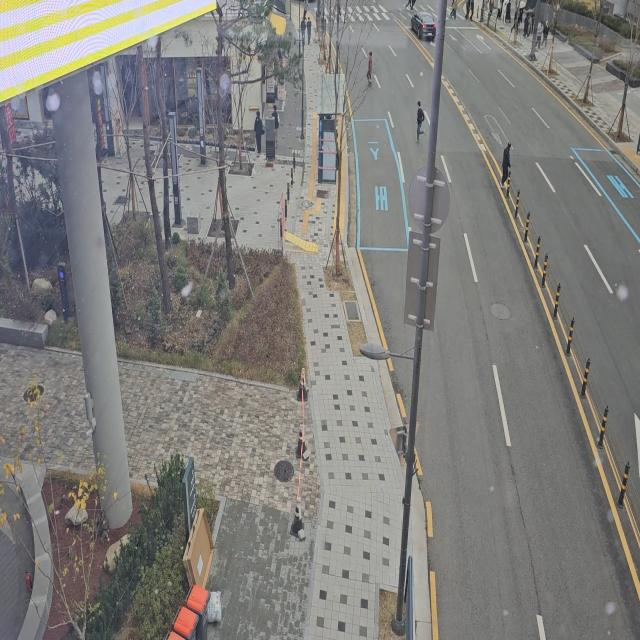Car: (408, 9, 440, 44)
